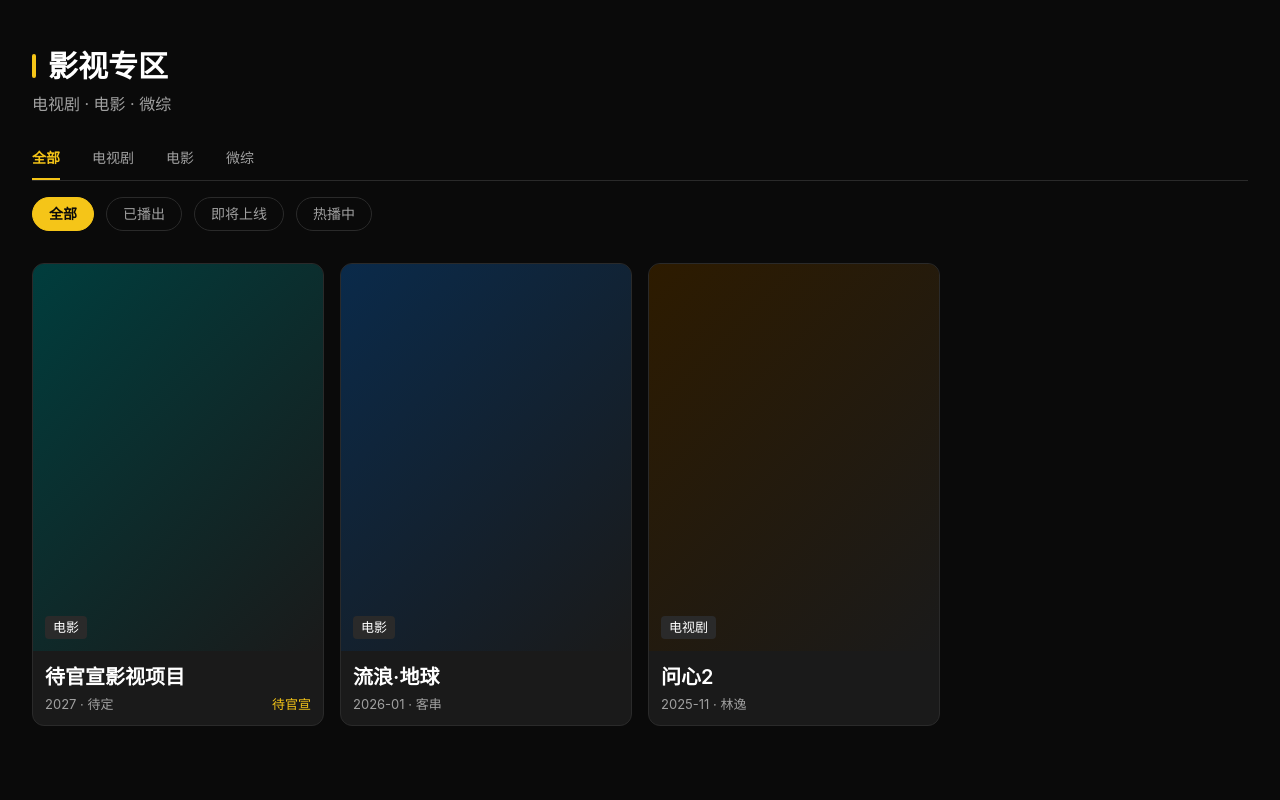
it: 影视专区页 (Issue #7) › TC-02 类型 Tab 切换（电影）
Click the button with test id "movie-type-tab-电影".
click(180, 164)  # box [166,148,194,180]
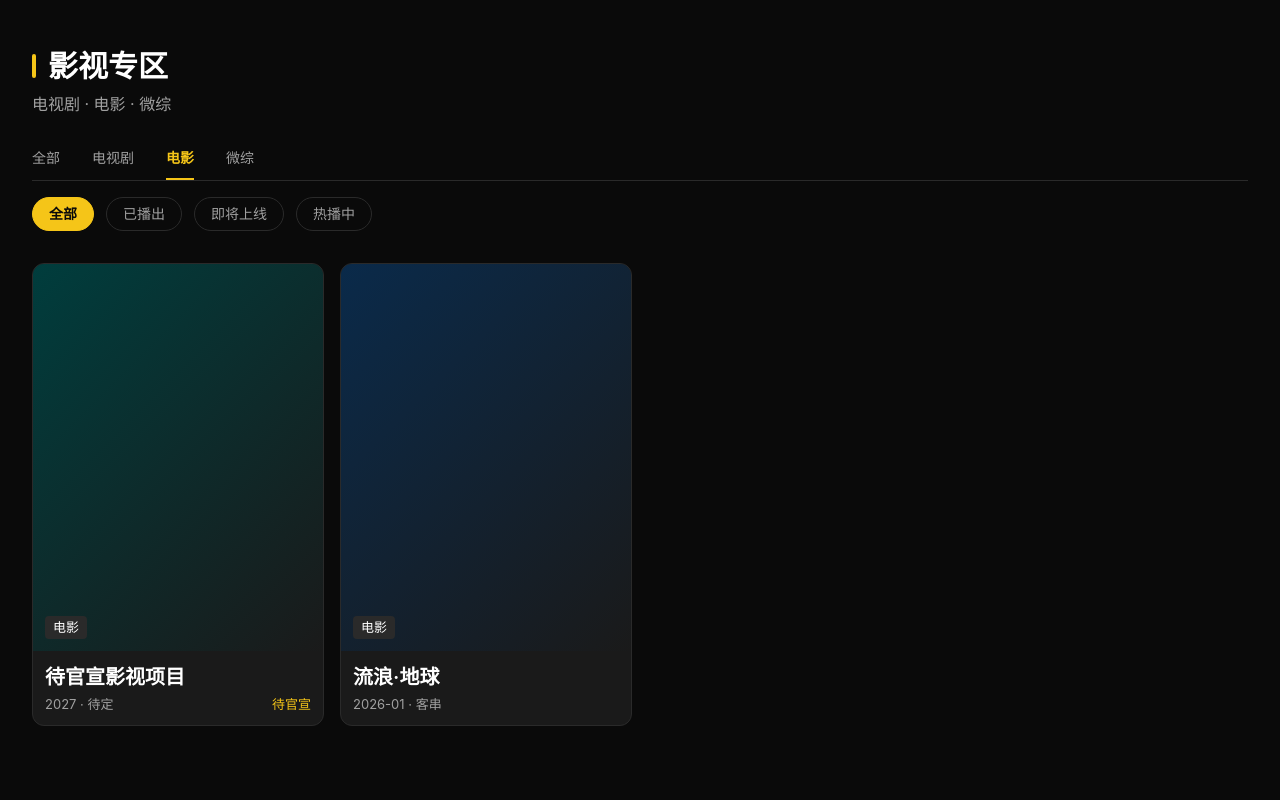
Expected: the element with test id "work-card-w-002" is shown, [340,263,632,726]
Expected: the element with test id "work-card-w-001" is gone
